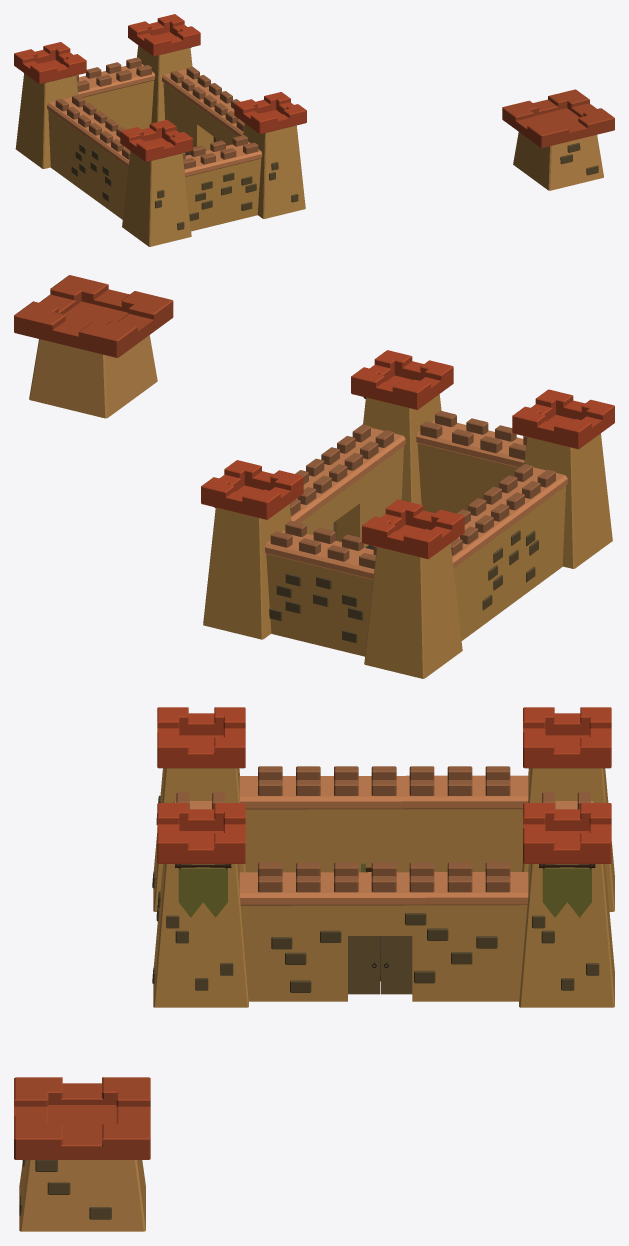
File: Castillo.fbx
3 renders of one model, top to bottom at view 1: azimuth 30°, elevation 25°; view 2: azimuth 150°, elevation 25°; view 3: azimuth 270°, elevation 25°, orthographic. The views are drawn at different scales.
Visible parts, largest first — view 1: todo:castilloCube.055, todo2:castilloCube.242, todo:castilloCube.266, todo:castilloCube.272, pasted__castilloCube.239, pasted__castilloCube.004, todo:castilloCube.010; view 2: todo:castilloCube.055, todo2:castilloCube.242, todo:castilloCube.266, pasted__castilloCube.239, todo:castilloCube.272, pasted__castilloCube.004, todo:castilloCube.010; view 3: todo:castilloCube.055, todo2:castilloCube.242, todo:castilloCube.272, todo:castilloCube.266, pasted__castilloCube.239, pasted__castilloCube.004, todo:castilloCube.010, todo:castillopCube815, todo:castilloCube.137, todo:castilloCube.273.
Part boxes in pixels (x1,y1,x2,y2): todo:castilloCube.055: [15, 45, 305, 246]; todo2:castilloCube.242: [14, 14, 306, 161]; todo:castilloCube.266: [55, 57, 258, 169]; todo:castilloCube.272: [47, 64, 262, 176]; pasted__castilloCube.239: [502, 89, 614, 147]; pasted__castilloCube.004: [513, 132, 603, 190]; todo:castilloCube.010: [71, 143, 298, 230]; todo:castilloCube.055: [203, 394, 612, 678]; todo2:castilloCube.242: [201, 350, 614, 559]; todo:castilloCube.266: [270, 410, 555, 568]; pasted__castilloCube.239: [14, 275, 173, 357]; todo:castilloCube.272: [265, 420, 567, 579]; pasted__castilloCube.004: [29, 335, 157, 418]; todo:castilloCube.010: [269, 530, 538, 643]; todo:castilloCube.055: [153, 768, 614, 1007]; todo2:castilloCube.242: [157, 707, 611, 863]; todo:castilloCube.272: [173, 775, 593, 905]; todo:castilloCube.266: [176, 766, 590, 892]; pasted__castilloCube.239: [14, 1077, 150, 1159]; pasted__castilloCube.004: [19, 1160, 145, 1231]; todo:castilloCube.010: [152, 795, 599, 992]; todo:castillopCube815: [178, 868, 591, 917]; todo:castilloCube.137: [348, 936, 412, 994]; todo:castilloCube.273: [19, 1160, 111, 1219].
Size of the model in its own units: 124 by 27.94 by 87.78.
